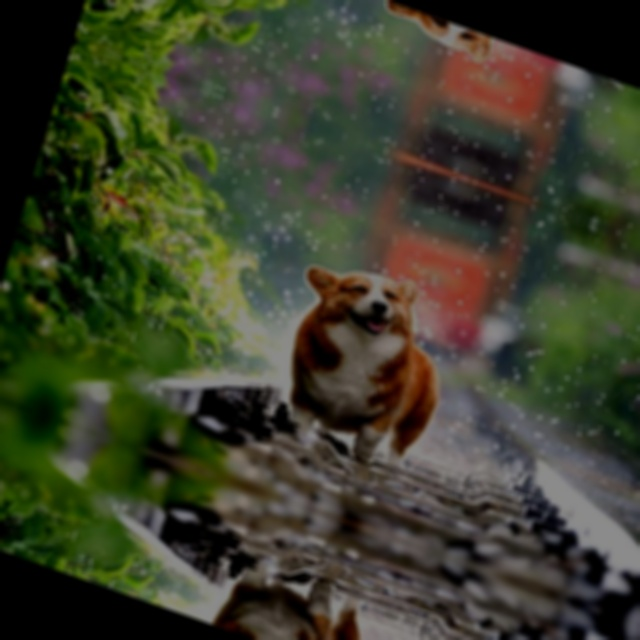dog: (250, 238, 477, 483), (192, 541, 387, 640), (368, 0, 549, 87)
